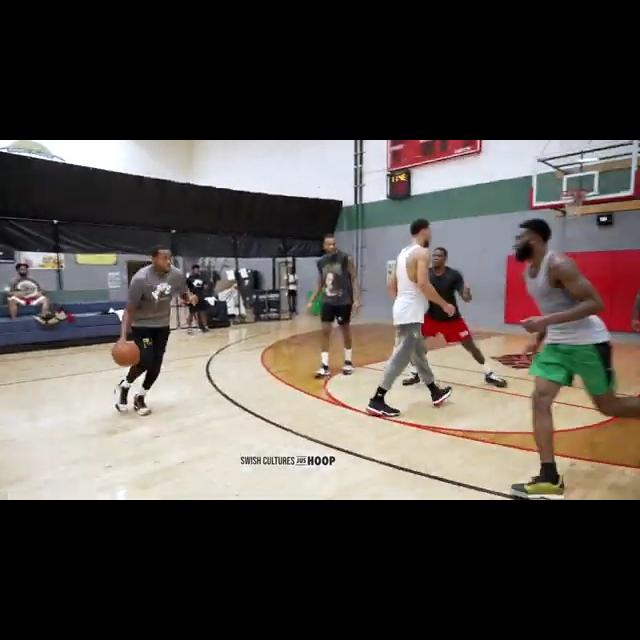basketball: (111, 339, 141, 367)
hoop: (561, 190, 588, 220)
person: (511, 217, 640, 496), (365, 217, 453, 417), (109, 246, 200, 421), (402, 238, 507, 388), (306, 236, 359, 381), (4, 262, 50, 319), (185, 265, 212, 335), (285, 266, 298, 314)
